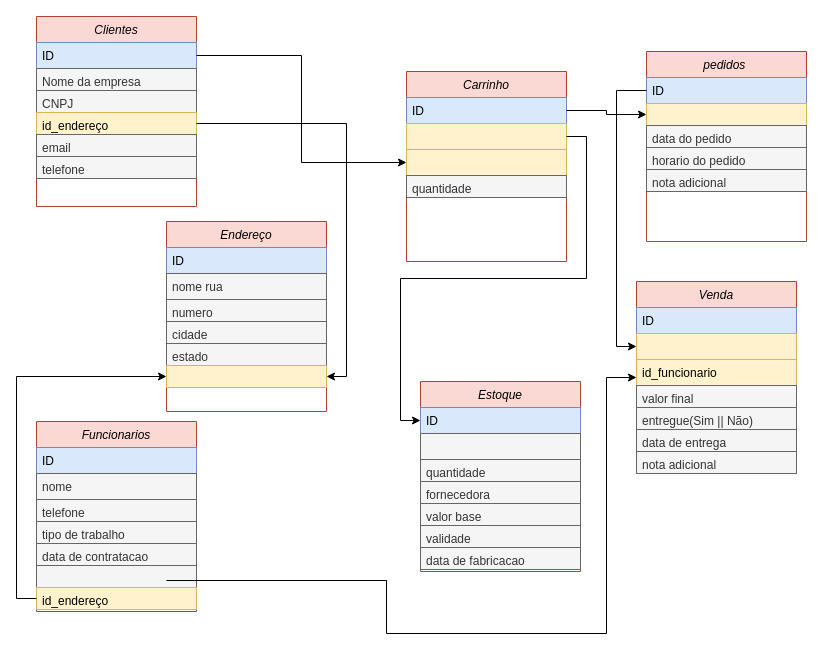
Image size: 823x650. Some labels were removed from this diagram. The centre of each missing label's shape, as x and y in pixels:
"data do termino de contrato" belongs at (116,576).
"id_carrinho" belongs at (726,114).
"id_cliente" belongs at (486,162).
"id_cliente || id_funcionario" belongs at (246,376).
"id_estoque" belongs at (486,136).
"id_pedido" belongs at (716,346).
"nome material" belongs at (500,446).
